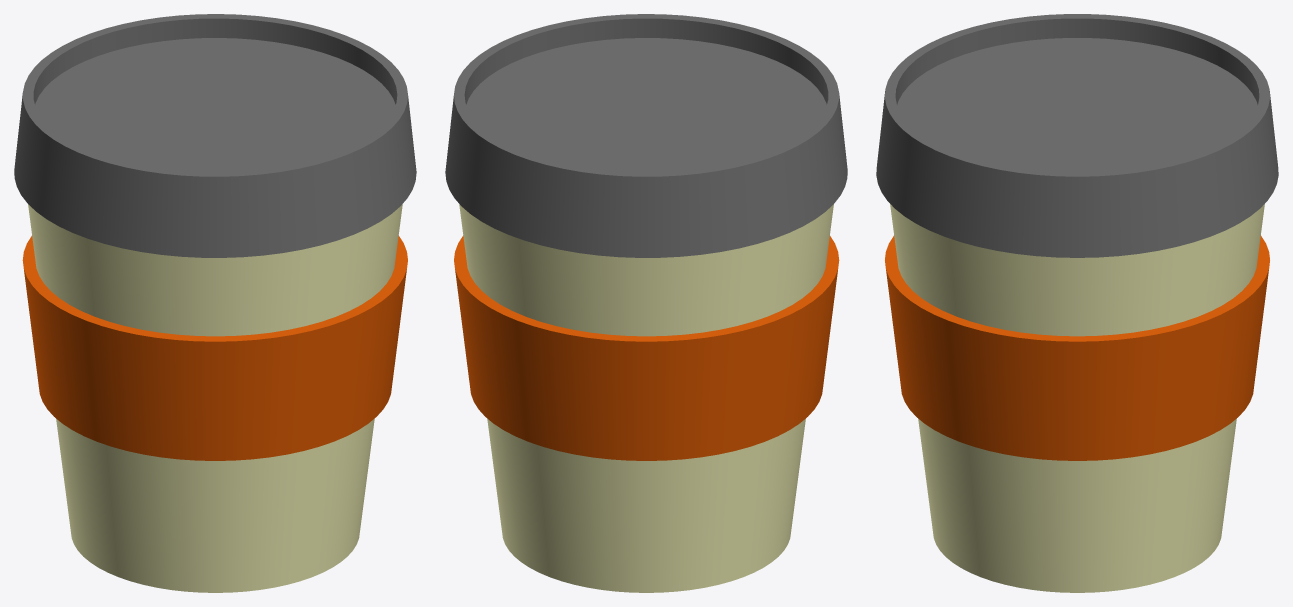
The model's file is cup_mug__6da6f7f87b8d.glb.
3 views of the same model, side by side, from view 1: azimuth 30°, elevation 25°; view 2: azimuth 150°, elevation 25°; view 3: azimuth 270°, elevation 25° (orthographic).
Parts seen in each view (by area): view 1: lid, body, sleeve; view 2: lid, body, sleeve; view 3: lid, body, sleeve.
Boxes of the visible parts, x1,y1,x2,y2 form: lid: (14,14,416,257); body: (28,204,402,592); sleeve: (22,235,407,460); lid: (445,14,847,257); body: (459,204,833,592); sleeve: (454,235,839,460); lid: (876,14,1278,257); body: (890,204,1264,592); sleeve: (885,235,1269,460).
Bounding box in the file's own units: 0.0752 × 0.09 × 0.0752.
